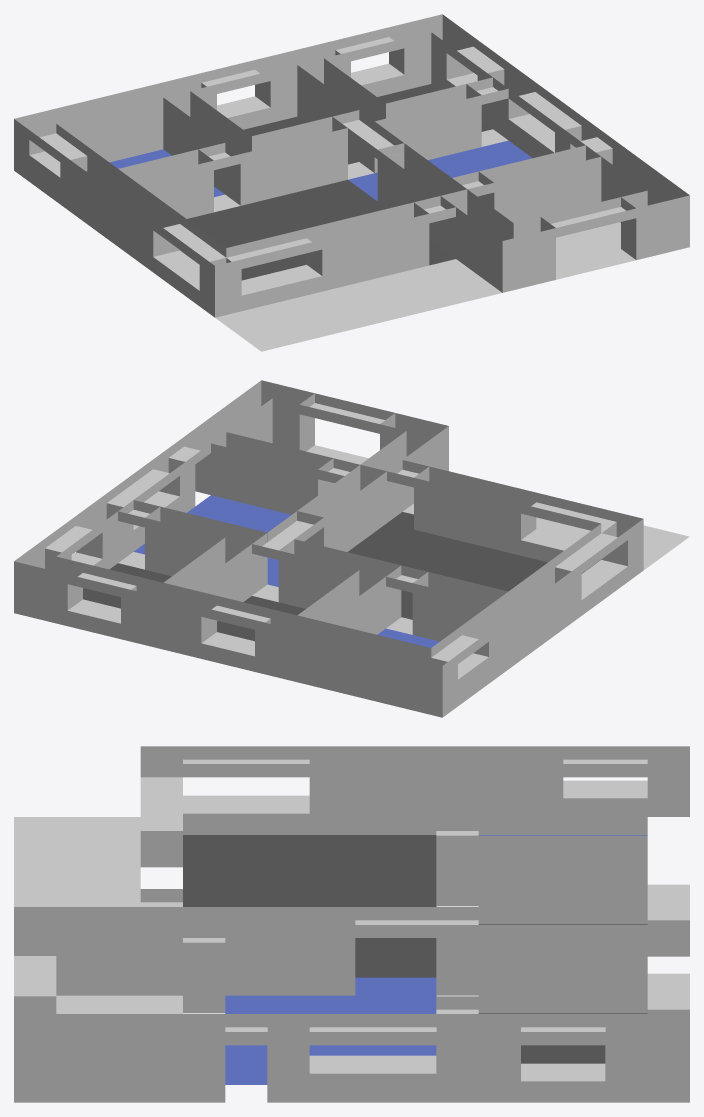
The model's file is house1.fbx.
The picture shows the model from 3 angles, top to bottom: view 1: azimuth 30°, elevation 25°; view 2: azimuth 150°, elevation 25°; view 3: azimuth 270°, elevation 25°; orthographic projection. The views are drawn at different scales.
Parts seen in each view (by area): view 1: Plane; view 2: Plane; view 3: Plane.
Part boxes in pixels (<box>): Plane: <box>14,14,689,351</box>; Plane: <box>14,380,689,717</box>; Plane: <box>14,746,689,1102</box>.
Size of the model in its own units: 1557 by 180 by 1557.
